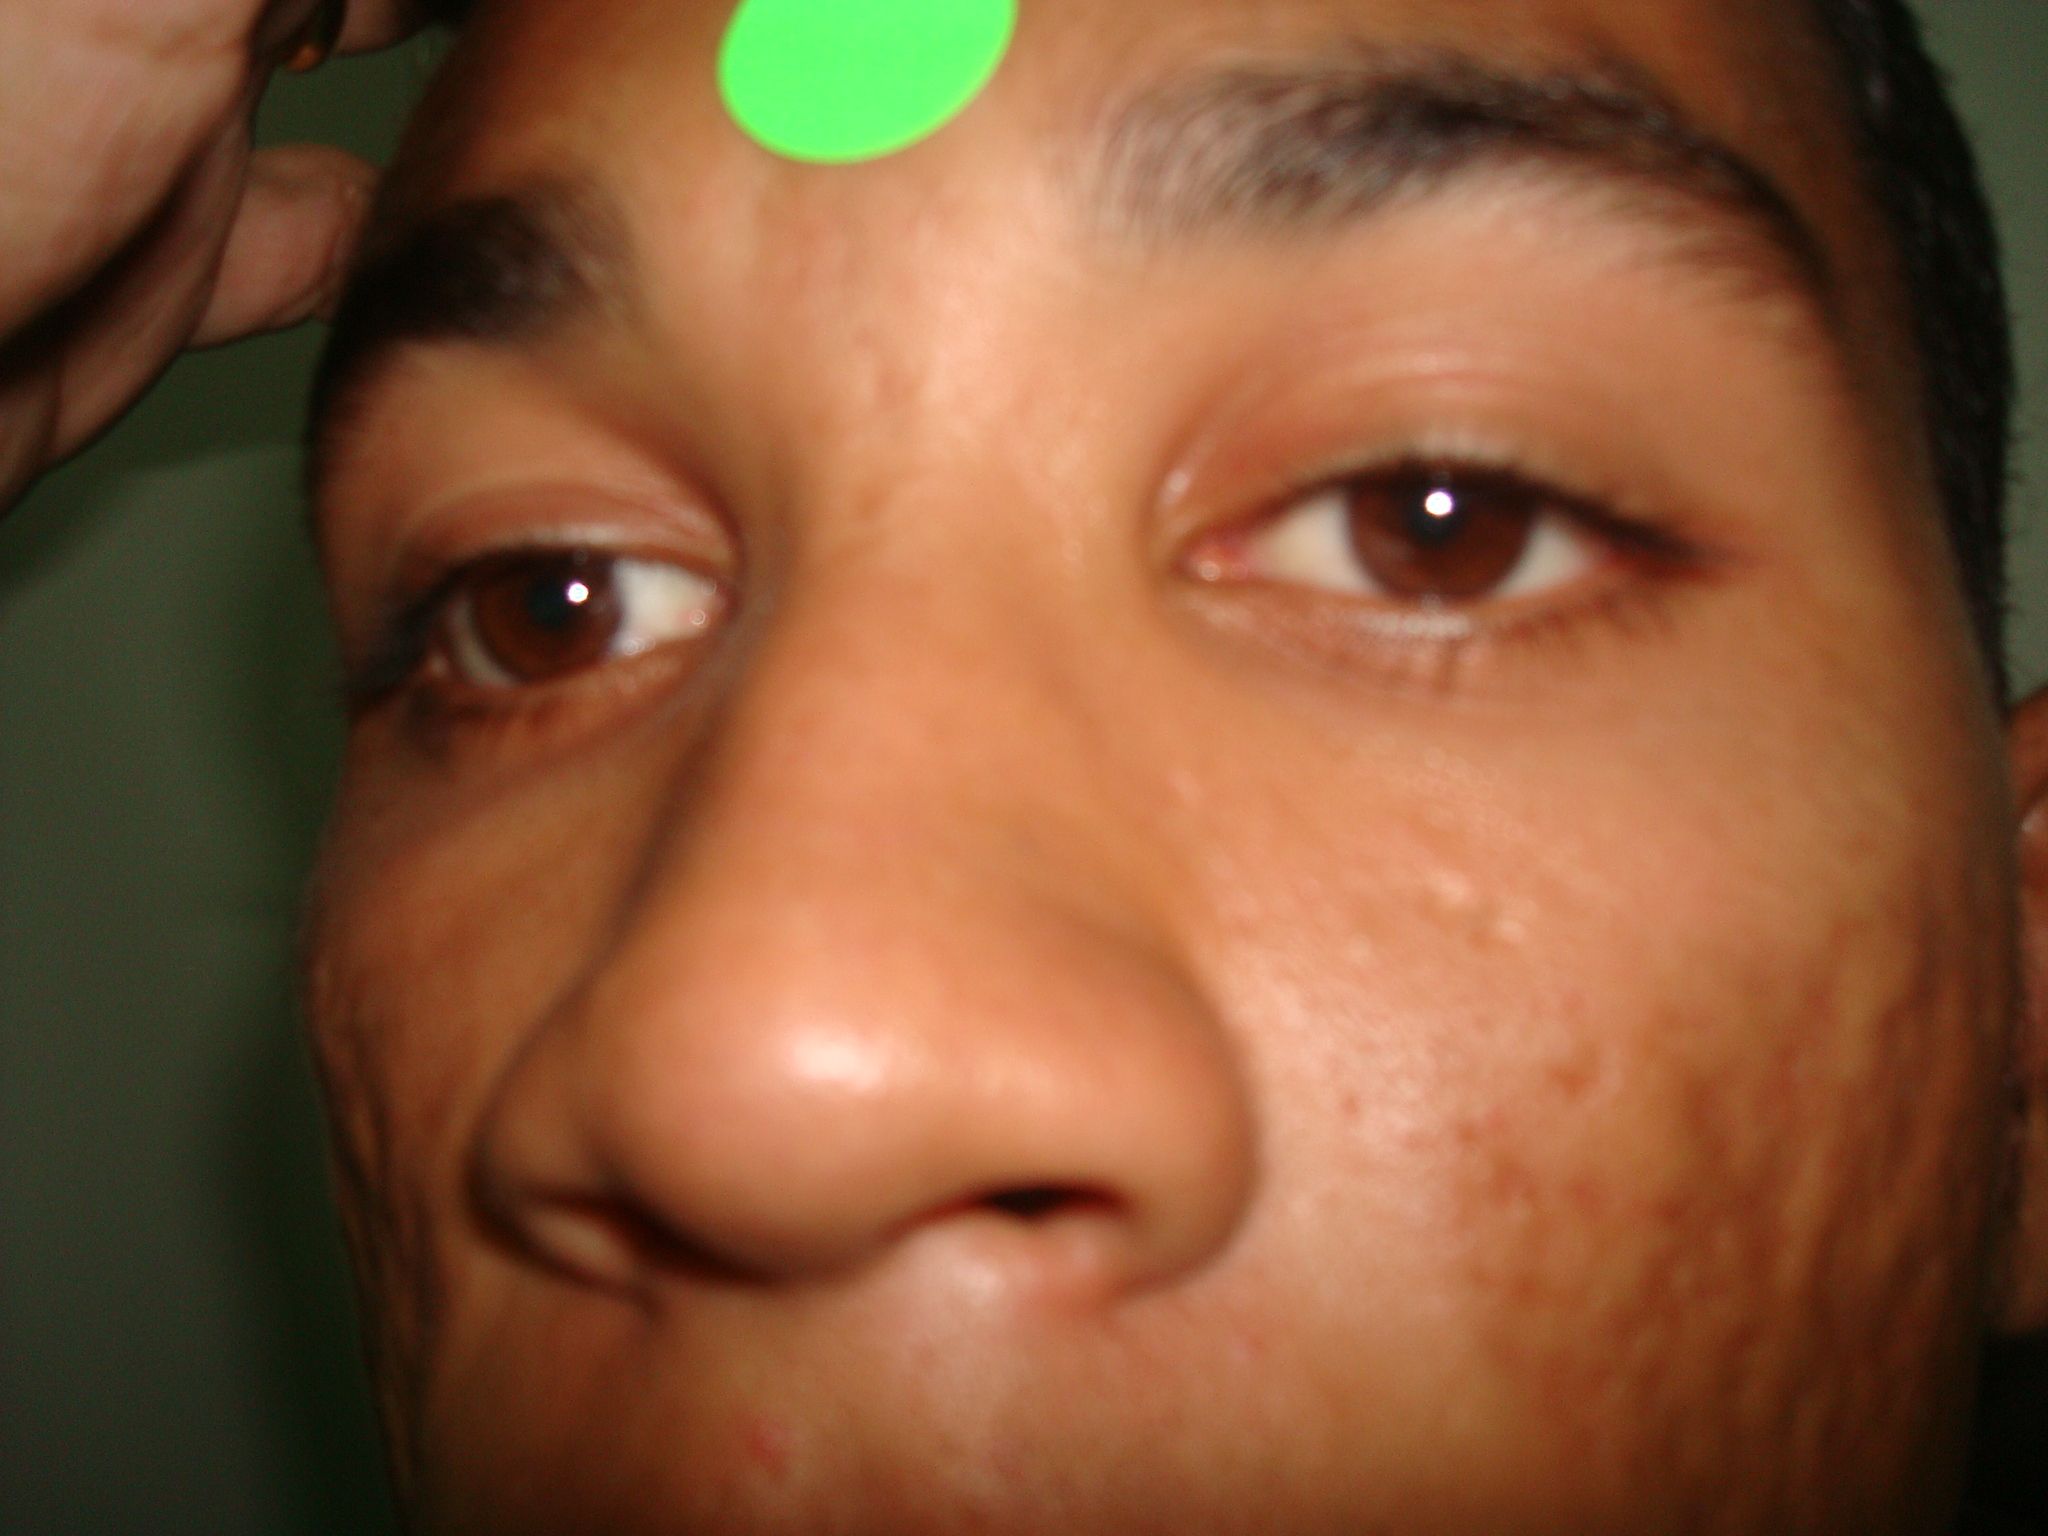flash: (1421, 482, 1459, 524), (566, 581, 590, 603)
limbo: (1347, 434, 1529, 599), (461, 536, 632, 678)
